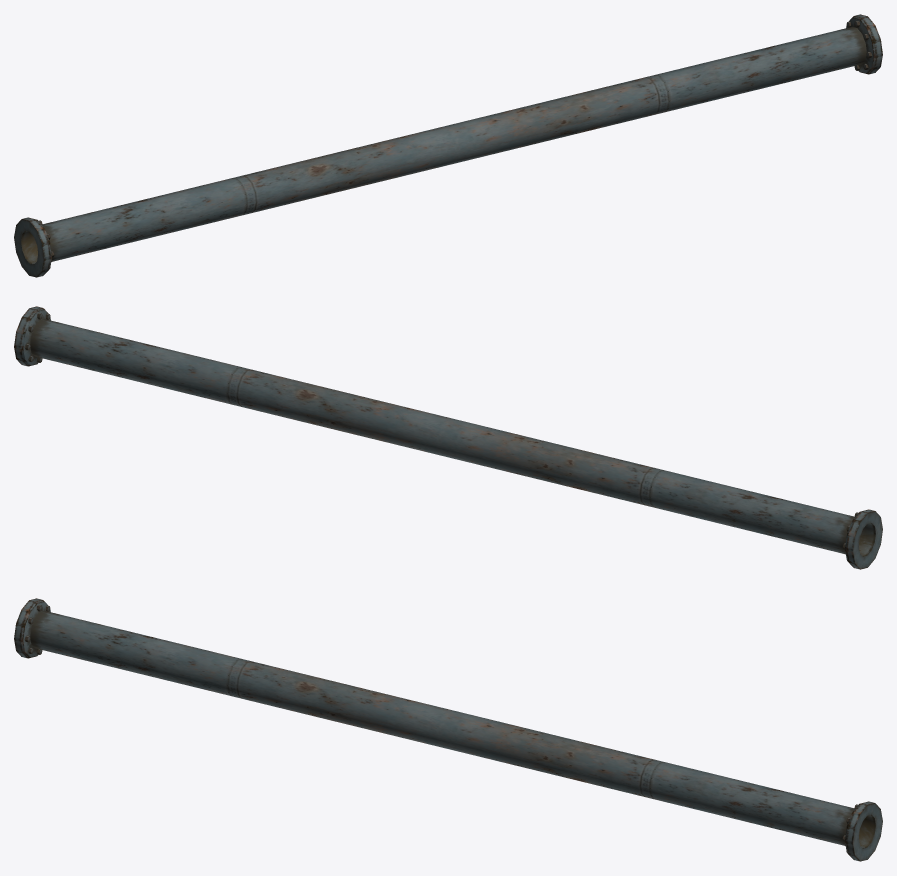
The model's file is industrial_pipe.obj.
3 renders of one model, top to bottom at view 1: azimuth 30°, elevation 25°; view 2: azimuth 150°, elevation 25°; view 3: azimuth 330°, elevation 25°, orthographic.
Parts seen in each view (by area): view 1: modular_industrial_pipes_01_pipe02; view 2: modular_industrial_pipes_01_pipe02; view 3: modular_industrial_pipes_01_pipe02.
Boxes of the visible parts, x1,y1,x2,y2 form: modular_industrial_pipes_01_pipe02: [14, 14, 882, 277]; modular_industrial_pipes_01_pipe02: [14, 306, 882, 569]; modular_industrial_pipes_01_pipe02: [14, 598, 882, 861].
Bounding box in the file's own units: 4 × 0.25 × 0.25.
1 material, 1 textured.
